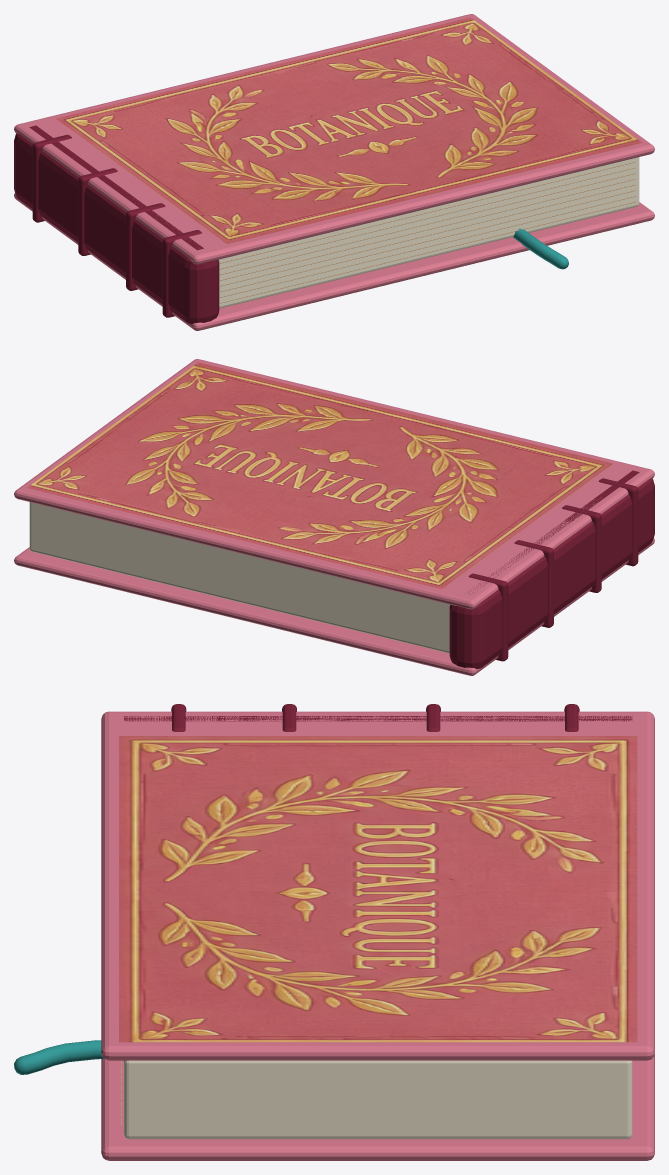
File: botanical_book_rose.glb
3 renders of one model, top to bottom at view 1: azimuth 30°, elevation 25°; view 2: azimuth 150°, elevation 25°; view 3: azimuth 270°, elevation 25°, orthographic. The views are drawn at different scales.
Visible parts, largest first — view 1: Flat_book_cover, Ivory_pageblock, Hardbound_cover.001, Rounded_bound_spine, Hardbound_cover, Ribbon_bookmark, Raised_binding_rib.003, Raised_binding_rib, Raised_binding_rib.001, Raised_binding_rib.002, Fore_edge_page_line.003, Fore_edge_page_line.007 (+6 smaller); view 2: Flat_book_cover, Ivory_pageblock, Hardbound_cover.001, Rounded_bound_spine, Hardbound_cover, Raised_binding_rib, Raised_binding_rib.003, Raised_binding_rib.002, Raised_binding_rib.001; view 3: Flat_book_cover, Ivory_pageblock, Hardbound_cover.001, Hardbound_cover, Rounded_bound_spine, Ribbon_bookmark.
Part boxes in pixels (left/top/right/bottom): Flat_book_cover: left=56, top=17, right=641, bottom=243; Ivory_pageblock: left=219, top=157, right=639, bottom=308; Hardbound_cover.001: left=14, top=14, right=654, bottom=264; Rounded_bound_spine: left=14, top=125, right=219, bottom=323; Hardbound_cover: left=14, top=193, right=654, bottom=330; Ribbon_bookmark: left=513, top=228, right=568, bottom=269; Raised_binding_rib.003: left=162, top=230, right=201, bottom=317; Raised_binding_rib: left=32, top=134, right=71, bottom=222; Raised_binding_rib.001: left=78, top=168, right=117, bottom=255; Raised_binding_rib.002: left=126, top=203, right=165, bottom=290; Fore_edge_page_line.003: left=220, top=184, right=635, bottom=286; Fore_edge_page_line.007: left=220, top=161, right=635, bottom=263; Flat_book_cover: left=27, top=362, right=612, bottom=588; Ivory_pageblock: left=29, top=502, right=449, bottom=653; Hardbound_cover.001: left=14, top=359, right=654, bottom=609; Rounded_bound_spine: left=449, top=470, right=654, bottom=668; Hardbound_cover: left=14, top=538, right=654, bottom=675; Raised_binding_rib: left=468, top=573, right=508, bottom=661; Raised_binding_rib.003: left=598, top=478, right=638, bottom=566; Raised_binding_rib.002: left=562, top=505, right=601, bottom=592; Raised_binding_rib.001: left=514, top=540, right=553, bottom=627; Flat_book_cover: left=119, top=736, right=637, bottom=1042; Ivory_pageblock: left=124, top=1060, right=632, bottom=1139; Hardbound_cover.001: left=101, top=711, right=654, bottom=1060; Hardbound_cover: left=101, top=1054, right=654, bottom=1160; Rounded_bound_spine: left=124, top=716, right=632, bottom=721; Ribbon_bookmark: left=14, top=1040, right=104, bottom=1074.
Size of the model in its own units: 0.324 by 0.052 by 0.2547.
Materials: 7 (1 with a texture image).
